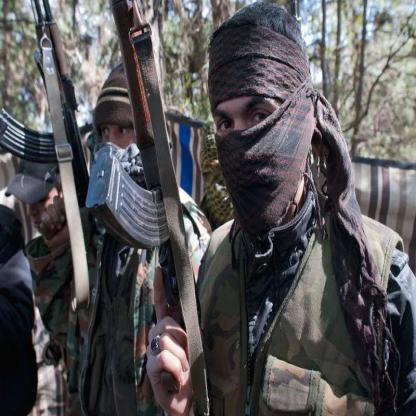rifle: (84, 0, 203, 395), (0, 0, 96, 230)
